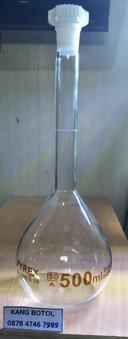Volumetric flask: (18, 0, 115, 306)
